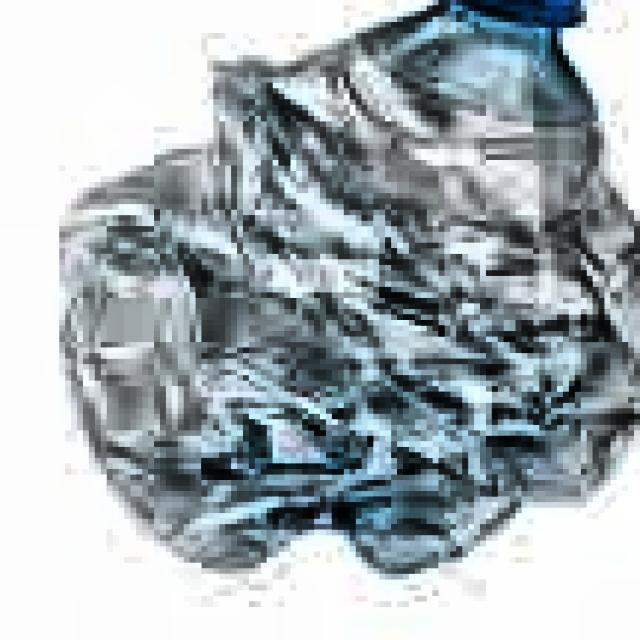plastic: (23, 0, 640, 585)
